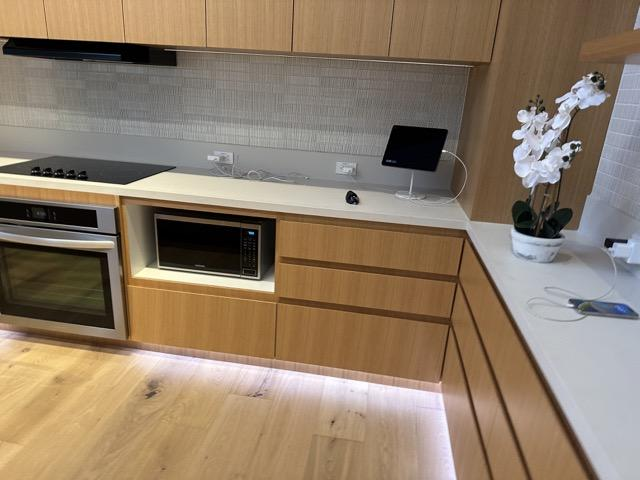Sunglasses: (344, 188, 360, 207)
